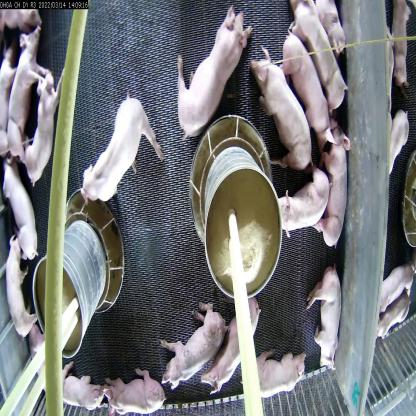Pig: (174, 0, 251, 136), (78, 96, 172, 203), (244, 52, 306, 172), (291, 1, 351, 118), (204, 296, 265, 388), (275, 154, 331, 241), (160, 310, 221, 389), (9, 27, 43, 156), (1, 164, 44, 262), (310, 264, 346, 377), (286, 30, 328, 119), (22, 78, 62, 168), (258, 346, 312, 408), (317, 124, 344, 238), (52, 359, 101, 415), (5, 239, 32, 336), (105, 370, 164, 413)
